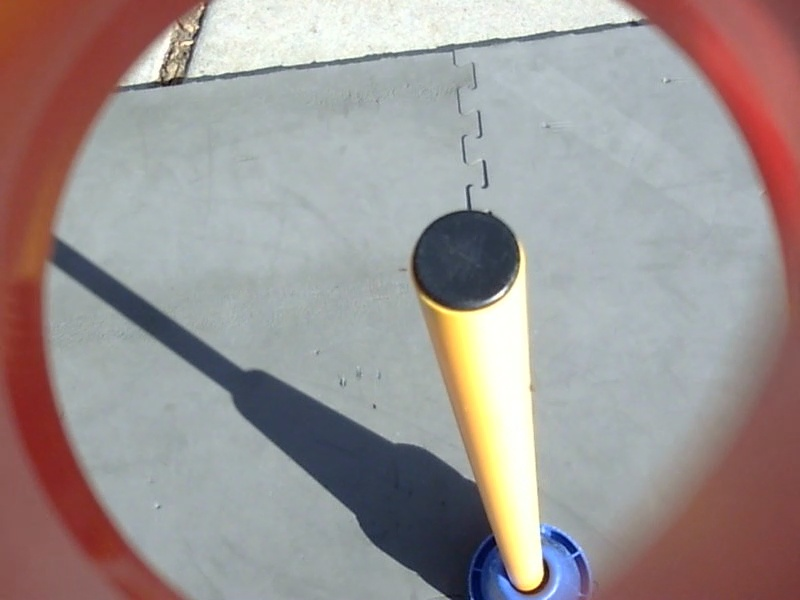tip: (404, 205, 531, 321)
